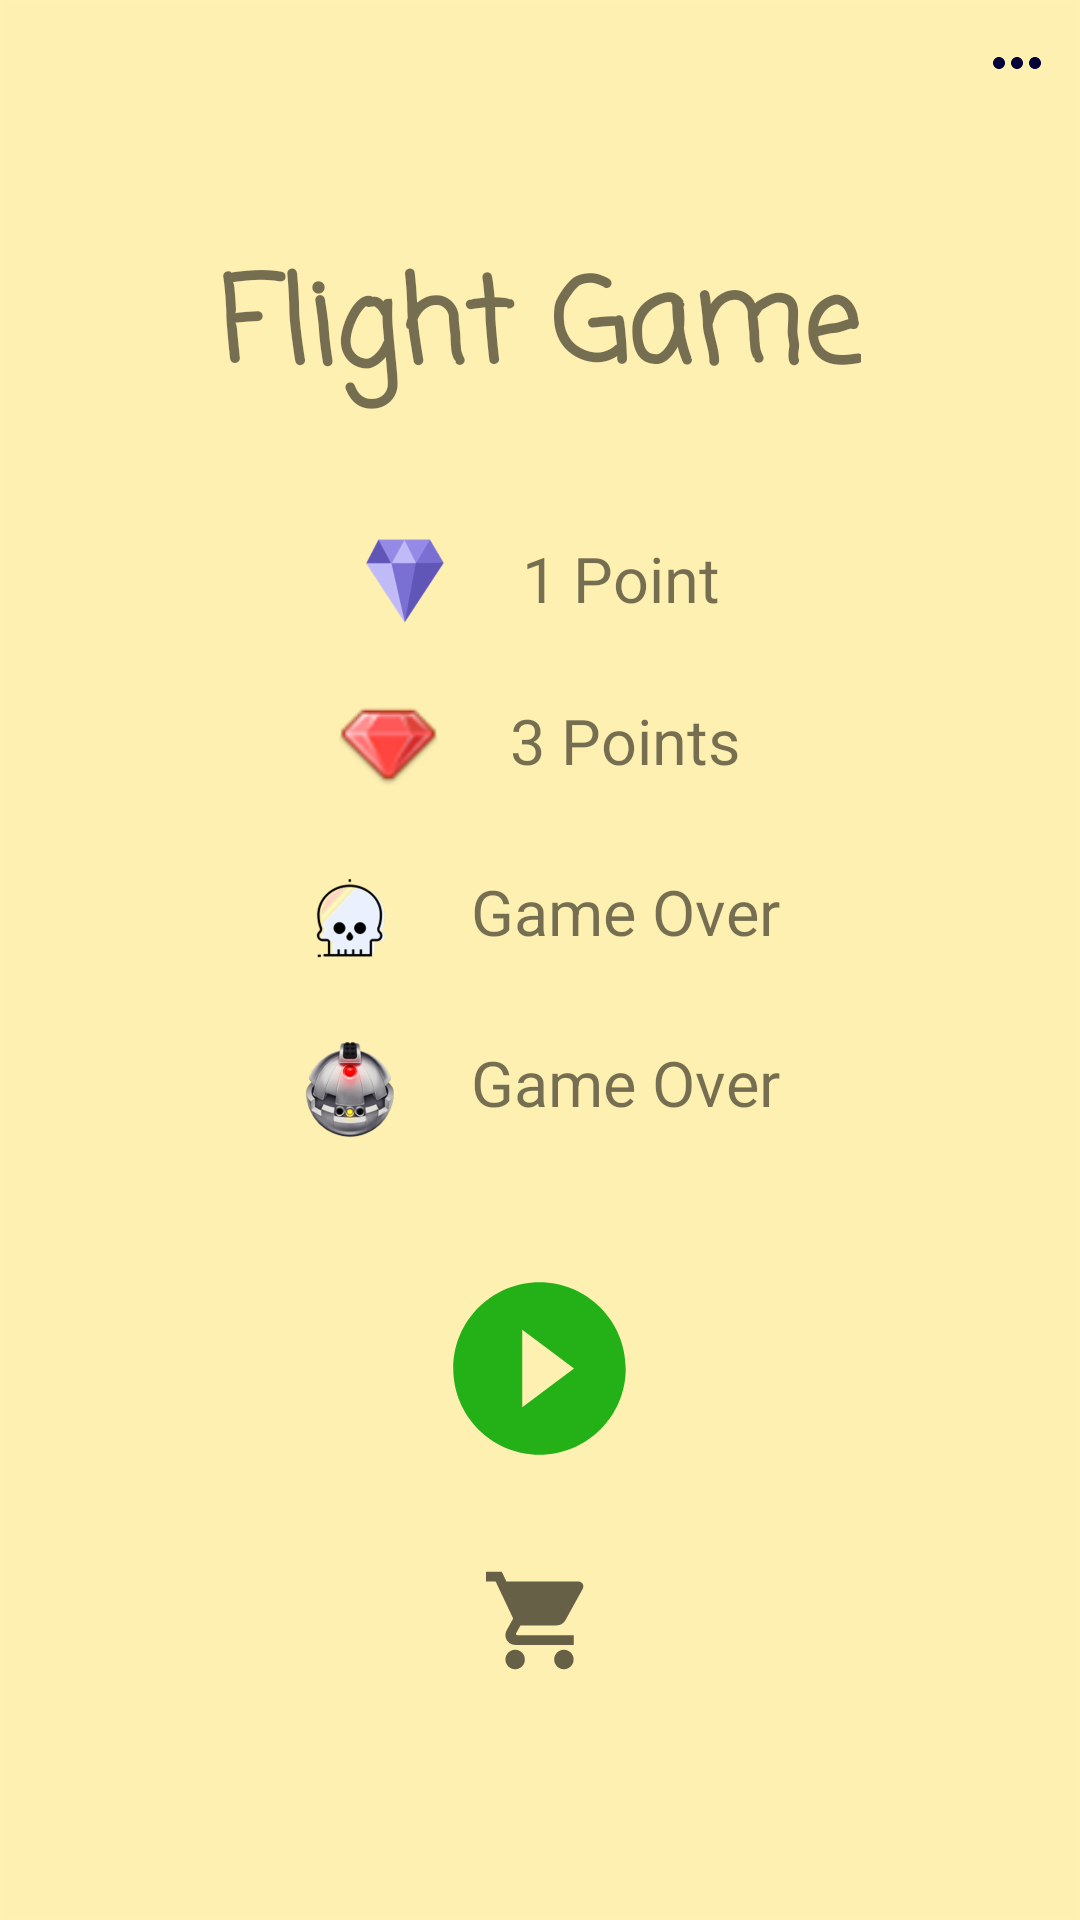

Named icons in this screenshot (1080px×1920px) and their bounding boxes, (x1=x1, y1=y1, x2=x2, y2=y2):
bomb: (x1=306, y1=1042, x2=394, y2=1137)
diamond: (x1=366, y1=539, x2=444, y2=622)
more: (x1=993, y1=57, x2=1041, y2=69)
play: (x1=453, y1=1282, x2=626, y2=1455)
ruby: (x1=340, y1=708, x2=437, y2=783)
shop: (x1=486, y1=1571, x2=584, y2=1670)
skull: (x1=317, y1=879, x2=385, y2=958)
